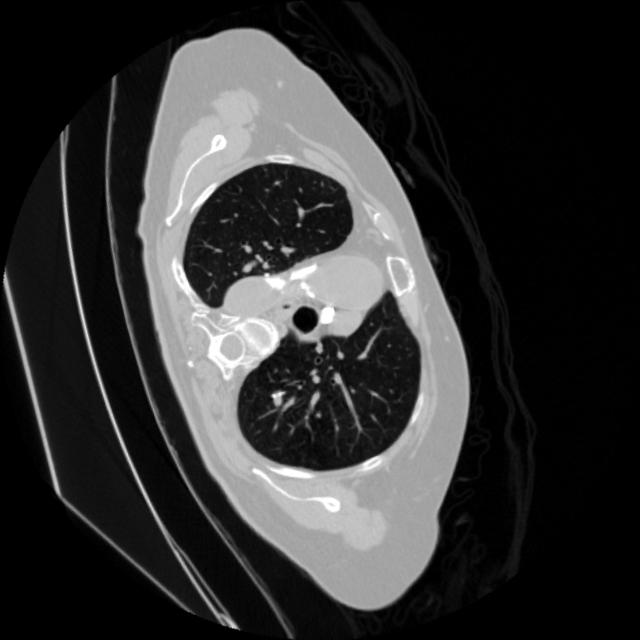nodule: (263, 385, 293, 415)
